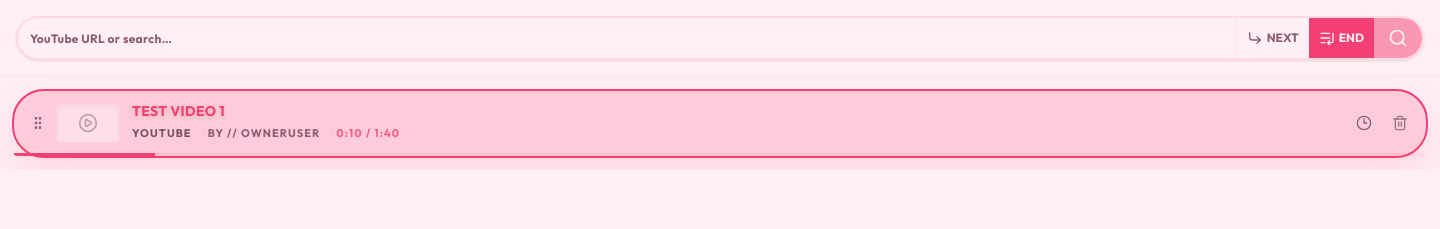
Test: Playlist Component (Unit Tests) › TC-UI-05: Shows an error when unsupported URLs are added
The image size is (1440, 229).
Type "https://unsupported.com/bad" into the field with placeholder "YouTube URL or search…" at coordinates (627, 38), box top-left (18, 18), bottom-right (1236, 58)
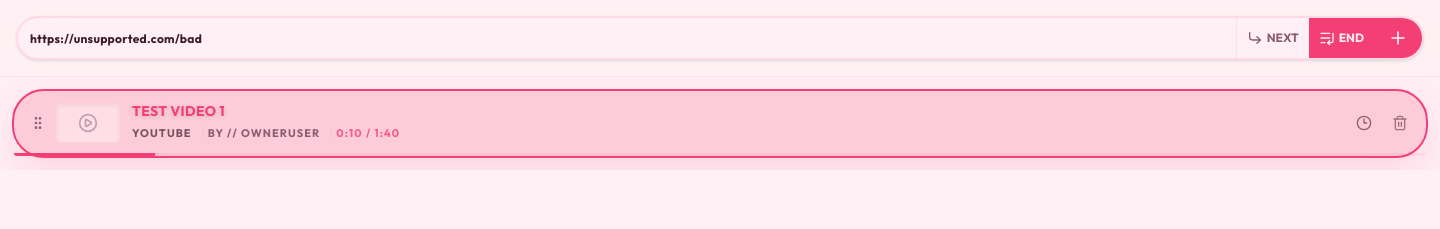
Submit the form with placeholder "YouTube URL or search", box top-left (16, 16), bottom-right (1424, 60)
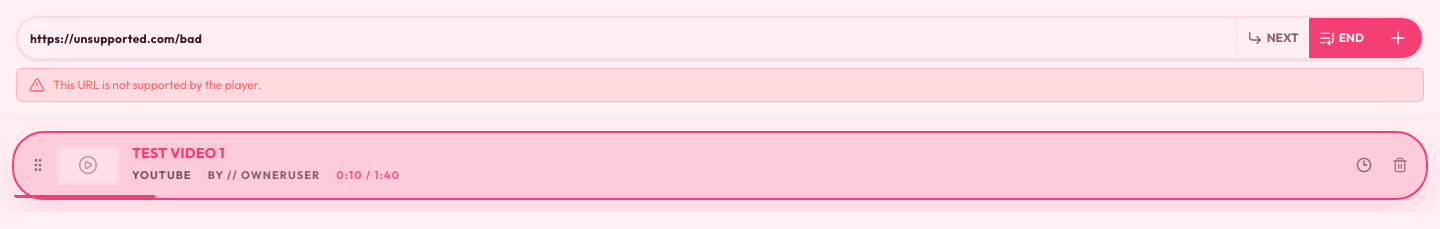
Now the text "This URL is not supported by the player." is shown, box top-left (53, 77), bottom-right (261, 93)
